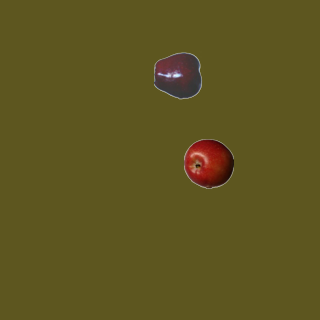Apple Braeburn: (183, 138, 233, 188)
Apple Red Delicious: (153, 50, 203, 100)
